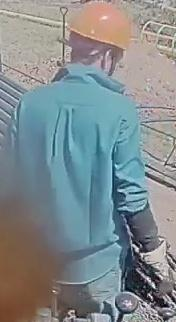gloves: (138, 238, 176, 300)
helmet: (66, 1, 131, 51)
vest: (13, 64, 145, 263)
